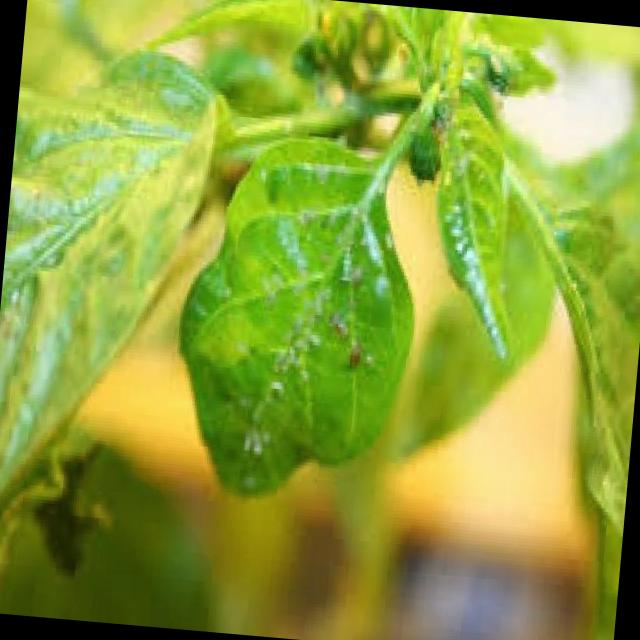aphid: (339, 330, 362, 370), (308, 237, 336, 269), (478, 201, 500, 233), (489, 269, 512, 298), (328, 308, 350, 338), (344, 256, 366, 286), (569, 284, 588, 312), (356, 342, 373, 370), (561, 266, 580, 290)
